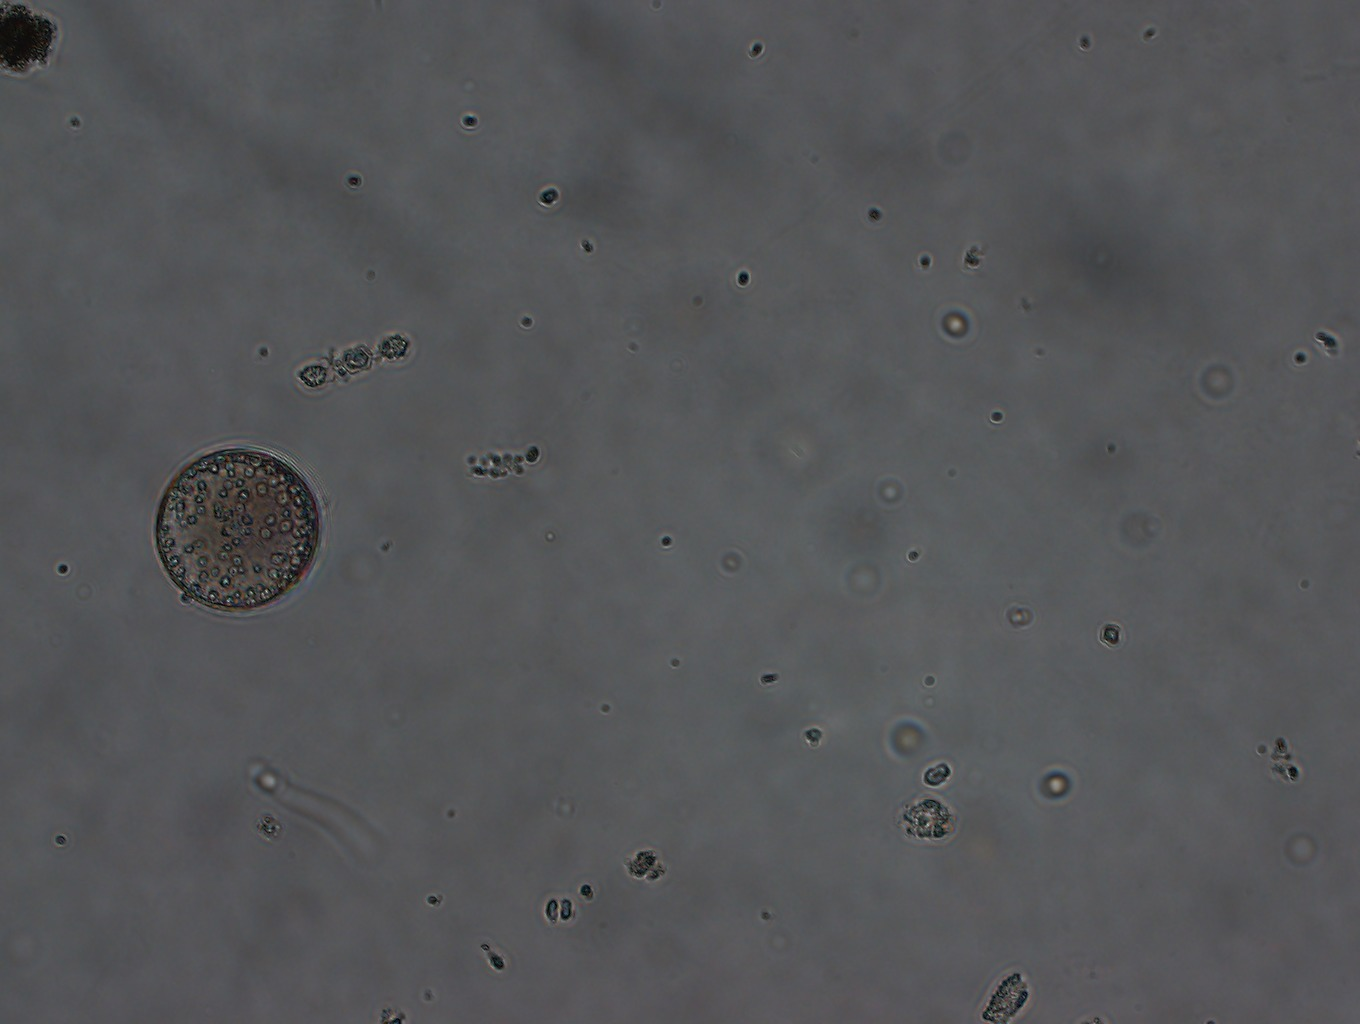coscinodiscus: (146, 440, 329, 622)
